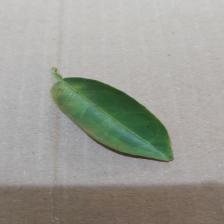greening: (48, 78, 130, 122)
